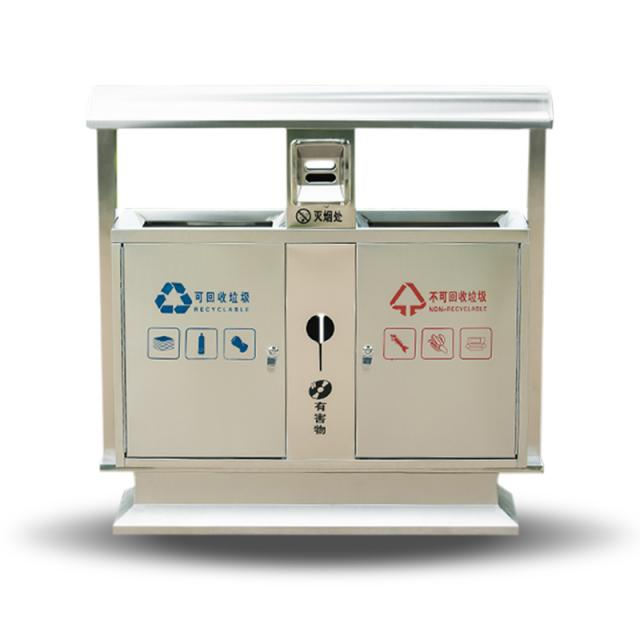ash bin: (74, 78, 564, 540)
